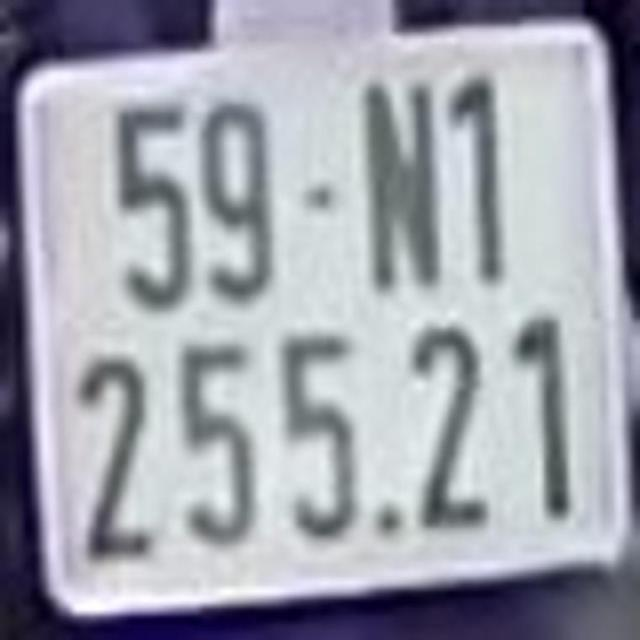1: (510, 310, 586, 523), (449, 73, 515, 284)
2: (406, 315, 493, 532), (74, 351, 158, 562)
5: (110, 96, 196, 312), (279, 329, 362, 540), (177, 337, 259, 548)
9: (199, 96, 277, 304)
N: (362, 77, 446, 290)
